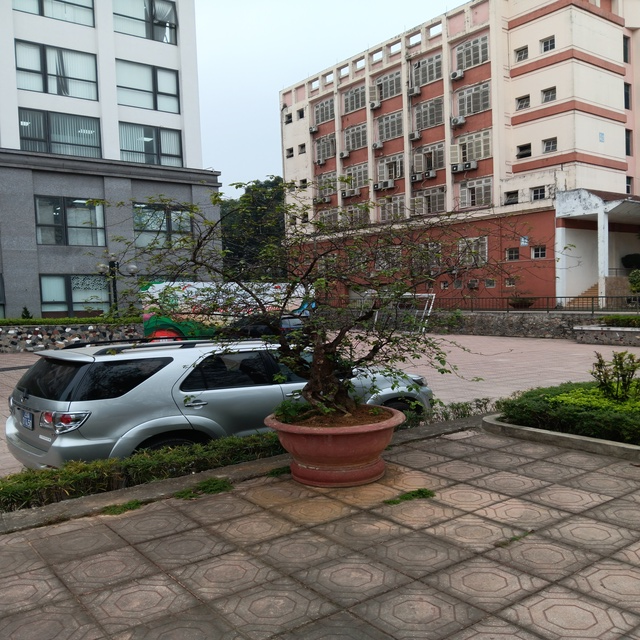caycanh: (197, 199, 473, 501)
